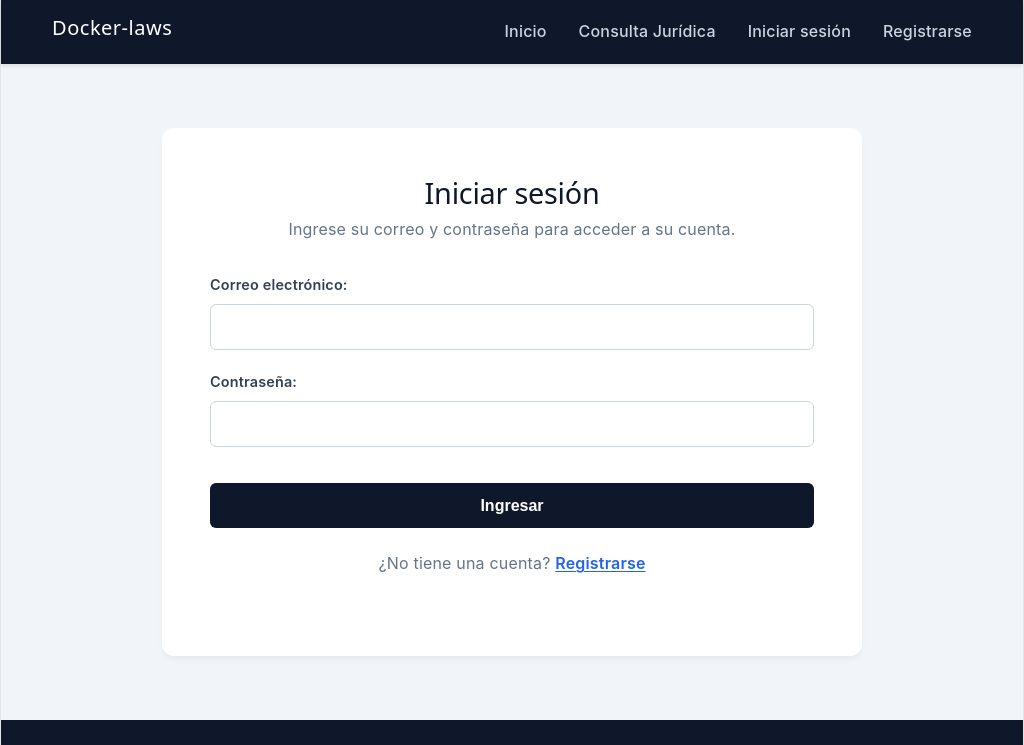
envía el token al cerrar sesión y vuelve al estado anónimo después del 204
The image size is (1024, 745).
Type "cuenta@ejemplo.invalid" into the field labelled "Correo electrónico:". click: (512, 327)
box: x1=210 y1=304 x2=814 y2=350
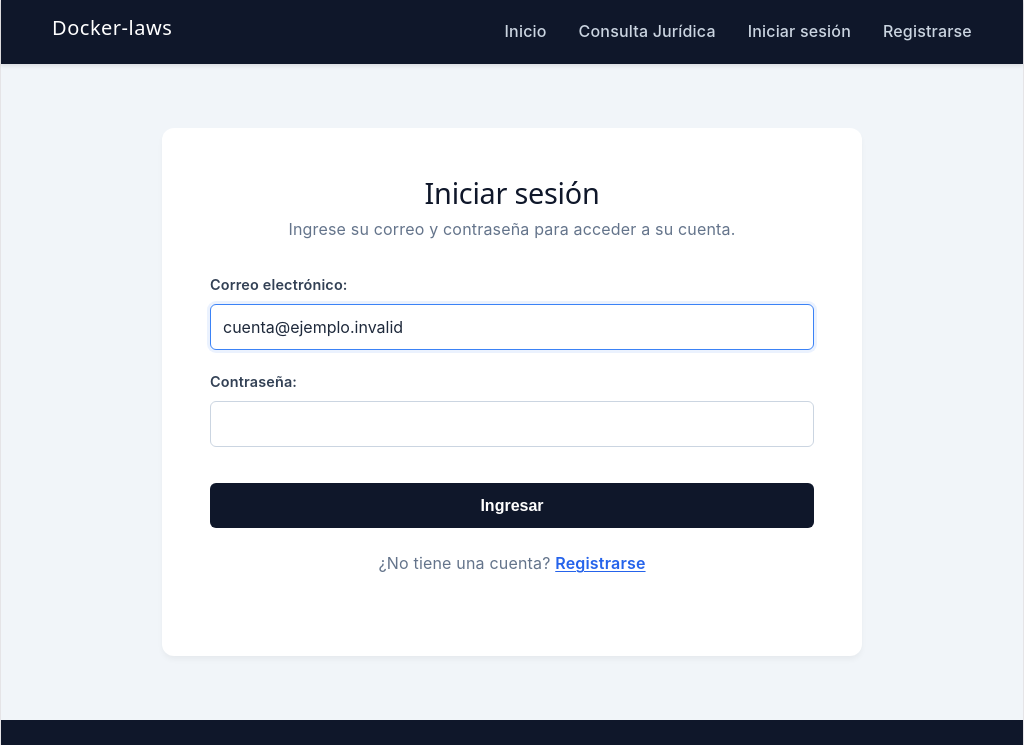
Type "ClaveFicticiaDePrueba" into the password field labelled "Contraseña:". click: (512, 424)
box: x1=210 y1=401 x2=814 y2=447
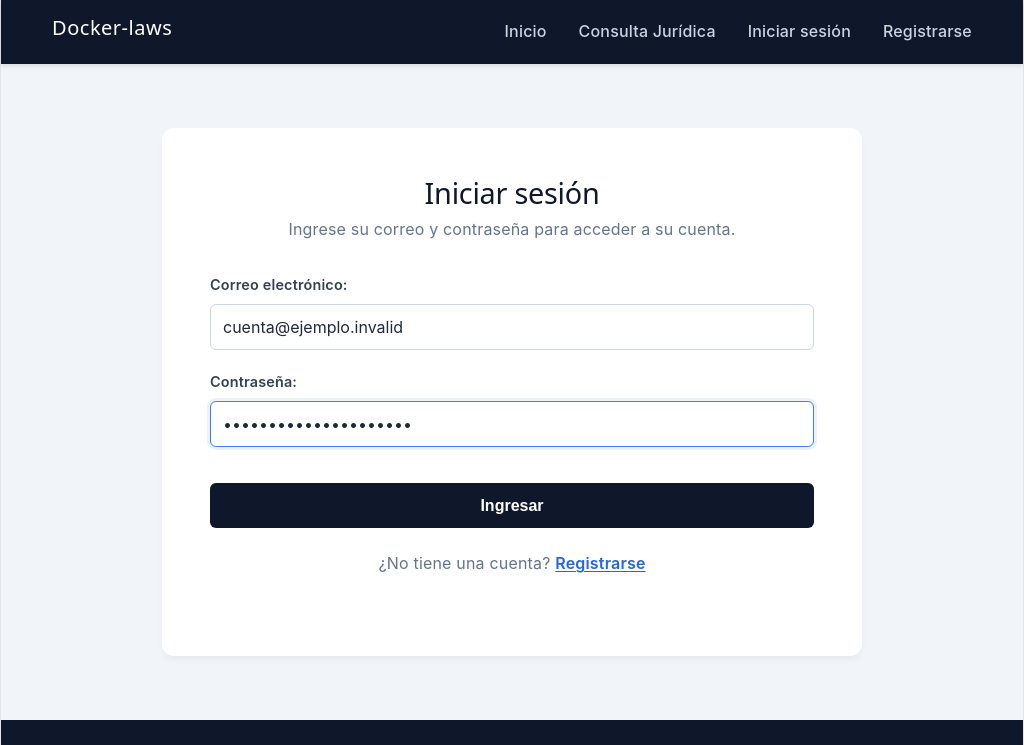
Click the button "Ingresar". click: (512, 506)
box: x1=210 y1=483 x2=814 y2=528
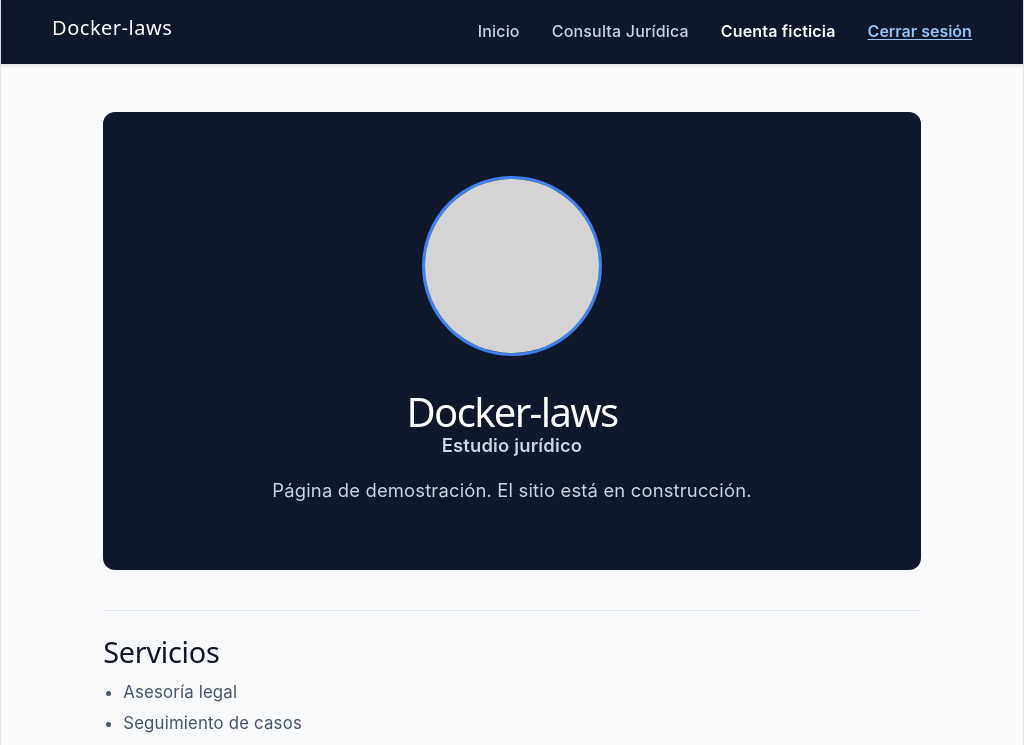
Click the button "Cerrar sesión". click: (920, 32)
box: x1=868 y1=20 x2=972 y2=43
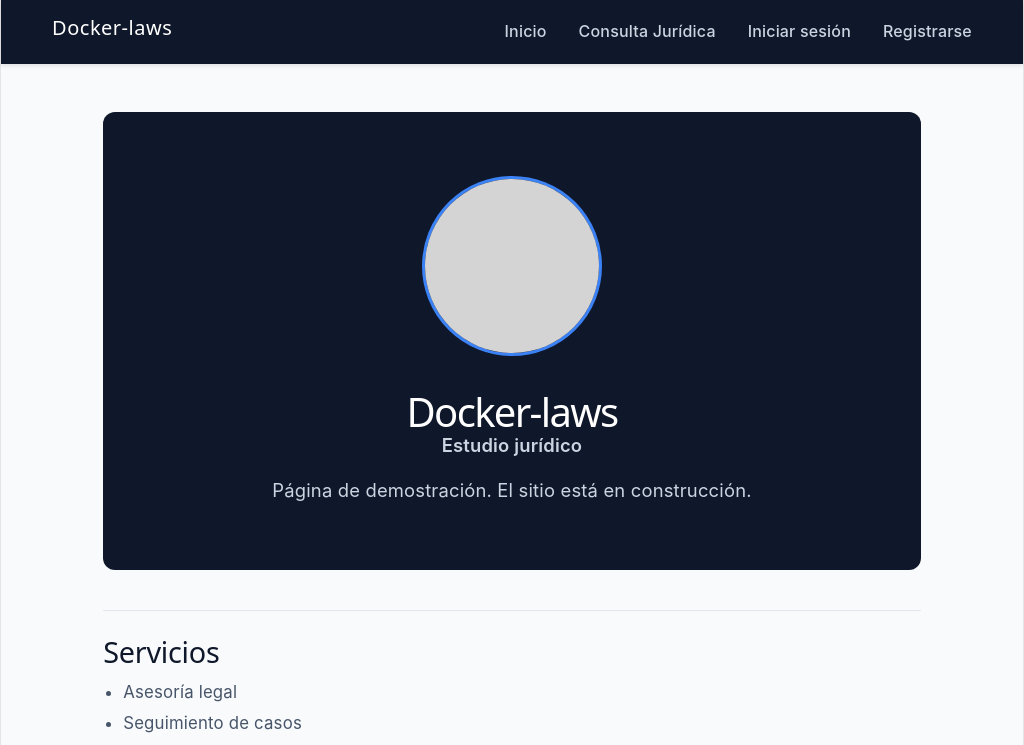
Check: the link "Iniciar sesión" is shown, box x1=748 y1=20 x2=851 y2=43
Check: the text "Cuenta ficticia" is gone
